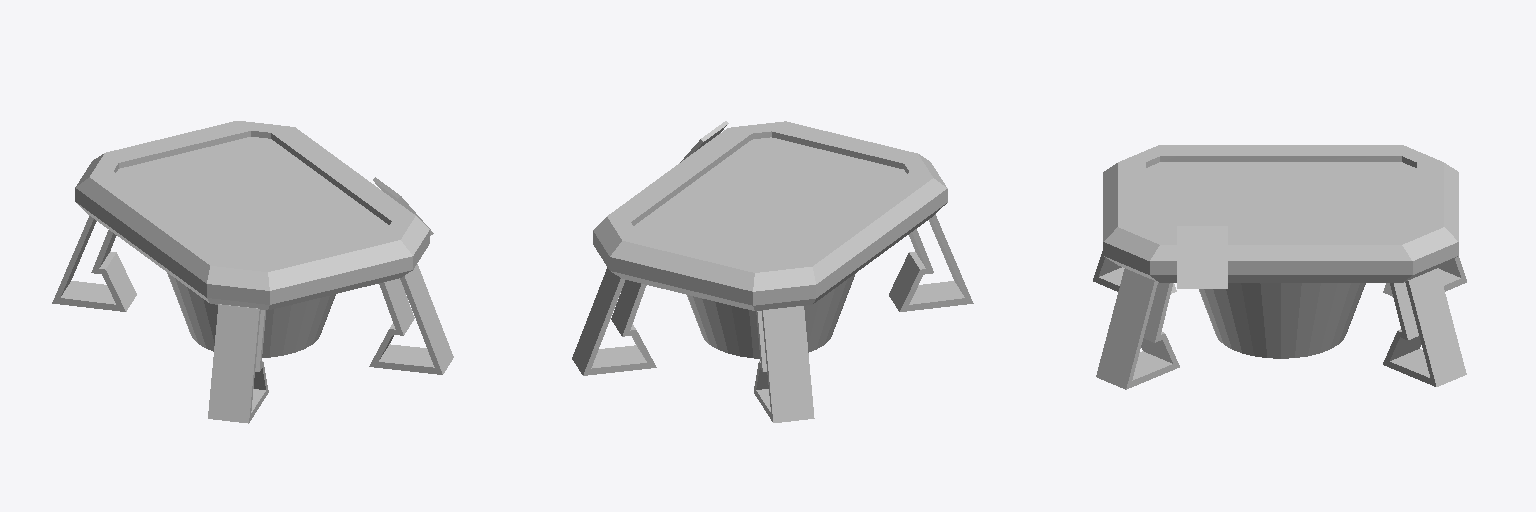
The model's file is HoloTableUV.obj.
The picture shows the model from 3 angles: view 1: azimuth 30°, elevation 25°; view 2: azimuth 150°, elevation 25°; view 3: azimuth 270°, elevation 25°; orthographic projection.
Visible parts, largest first — view 1: HoloTableBuv:Mesh; view 2: HoloTableBuv:Mesh; view 3: HoloTableBuv:Mesh.
Part boxes in pixels (left/top/right/bottom): HoloTableBuv:Mesh: left=52, top=121, right=453, bottom=423; HoloTableBuv:Mesh: left=572, top=121, right=973, bottom=422; HoloTableBuv:Mesh: left=1093, top=145, right=1466, bottom=389.
Bounding box in the file's own units: 18.45 × 10.43 × 23.61.